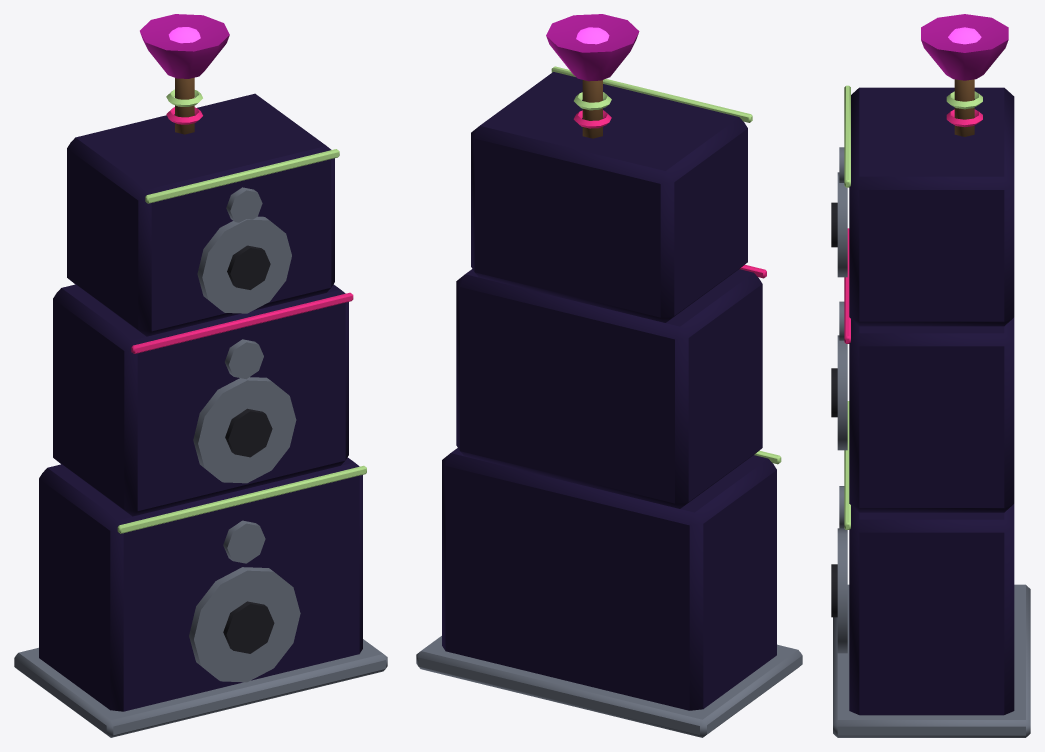
Rendered from W6_SpeakerStack.fbx.
The picture shows the model from 3 angles, left to right: view 1: azimuth 30°, elevation 25°; view 2: azimuth 150°, elevation 25°; view 3: azimuth 270°, elevation 25°; orthographic projection. The views are drawn at different scales.
Visible parts, largest first — view 1: W6_SpeakerStack; view 2: W6_SpeakerStack; view 3: W6_SpeakerStack.
Boxes of the visible parts, <box> form: W6_SpeakerStack: <box>14,14,387,737</box>; W6_SpeakerStack: <box>416,14,802,737</box>; W6_SpeakerStack: <box>831,14,1030,737</box>.
Size of the model in its own units: 2 by 4.29 by 1.21.
